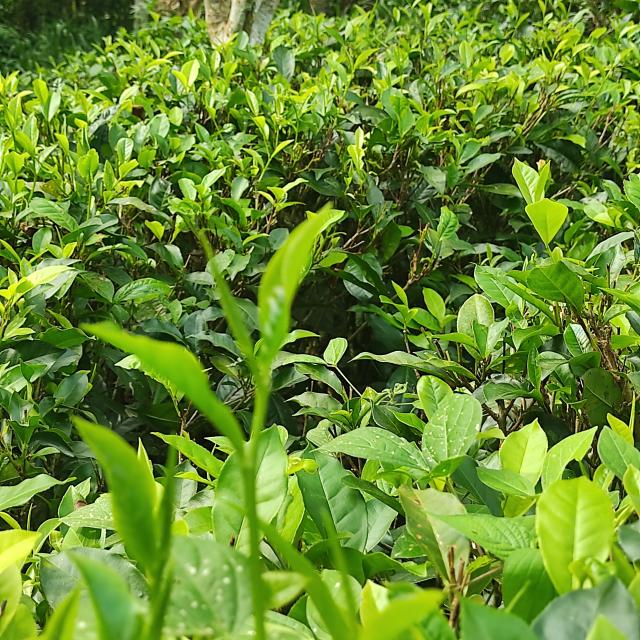unopened_leaf: (192, 222, 273, 408), (312, 501, 373, 640), (150, 425, 180, 578)
